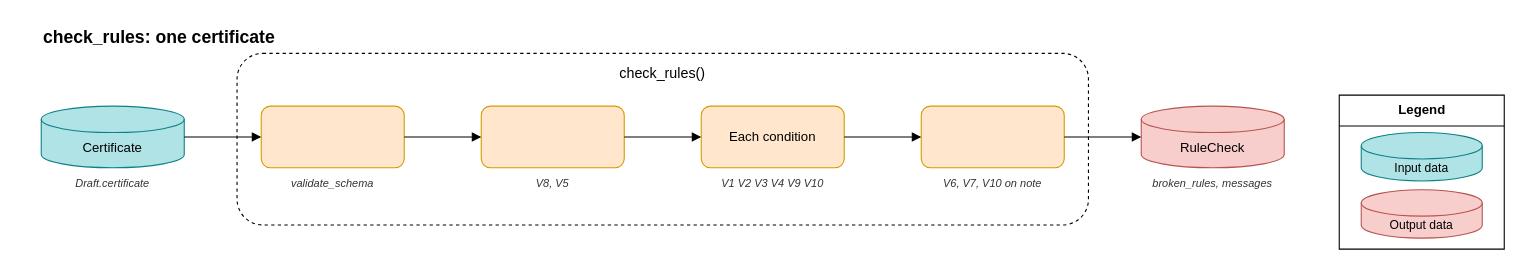
Image size: 1524x268. Some labels were removed from this diagram. The shapes that lost their labels are listed below. From the top down, each one's box as (x1, y1, x2, y2) in pixels, then its label:
(260, 105, 404, 168): Schema check
(480, 105, 624, 168): Decline and chain shape
(920, 105, 1064, 168): Whole chain
